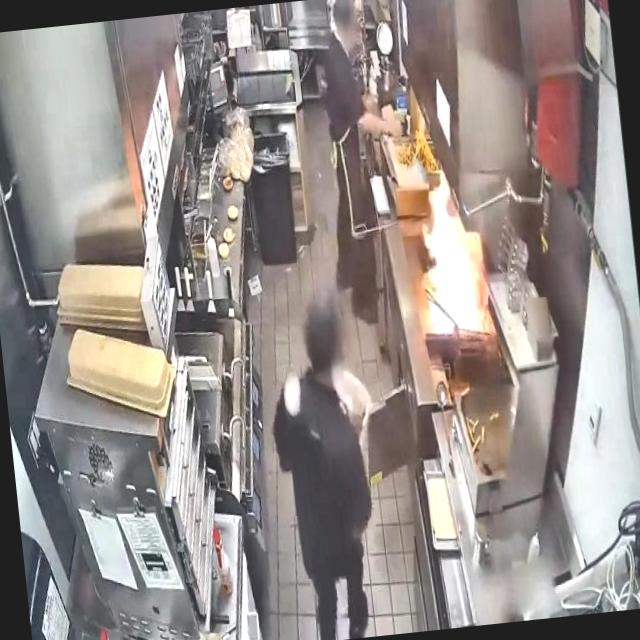fire: (396, 154, 501, 362)
